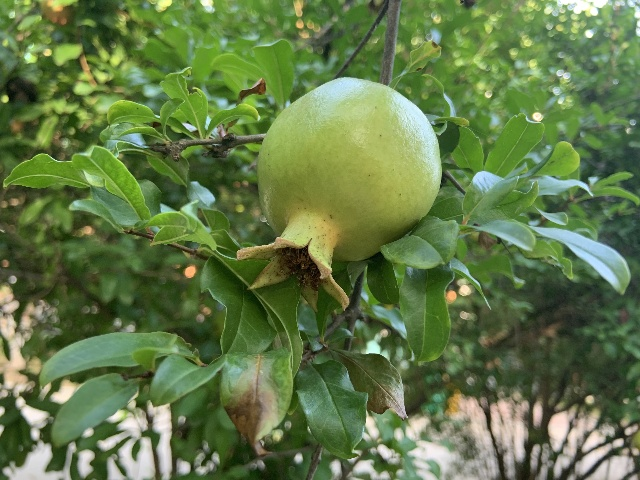mid-growth: (236, 77, 441, 316)
